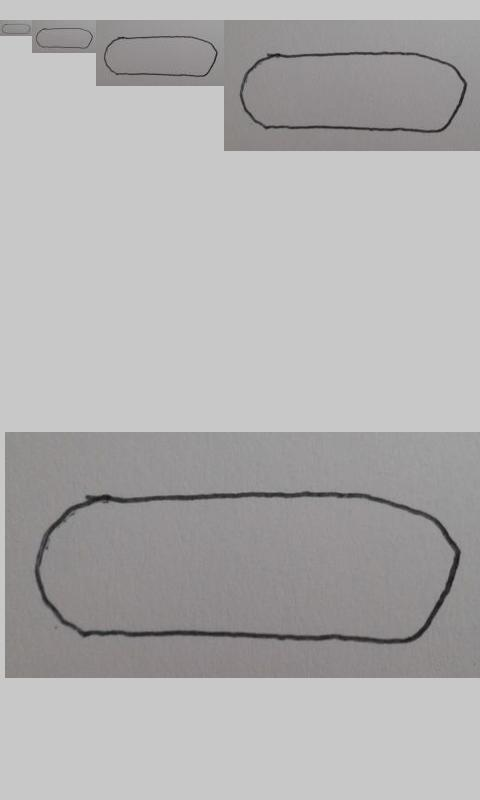chip: (34, 491, 462, 646), (239, 51, 468, 134), (104, 35, 218, 78), (35, 27, 94, 49), (2, 23, 31, 35)
